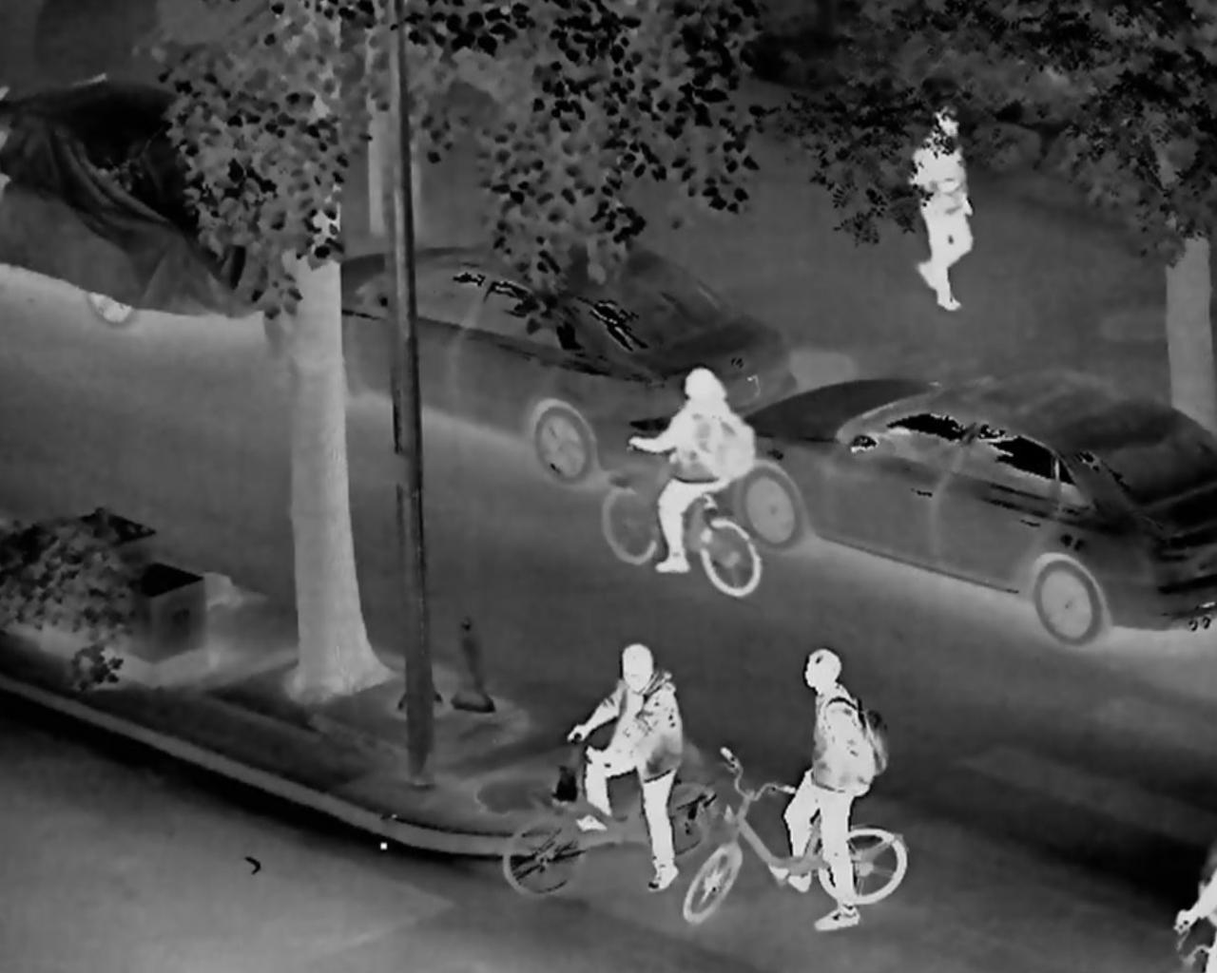person: (768, 645, 891, 934), (562, 641, 696, 892), (612, 360, 753, 592), (890, 101, 984, 315)
